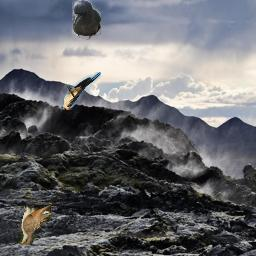Crow: (72, 0, 101, 40)
Cuckoo: (19, 205, 51, 245)
Swallow: (61, 72, 101, 110)
